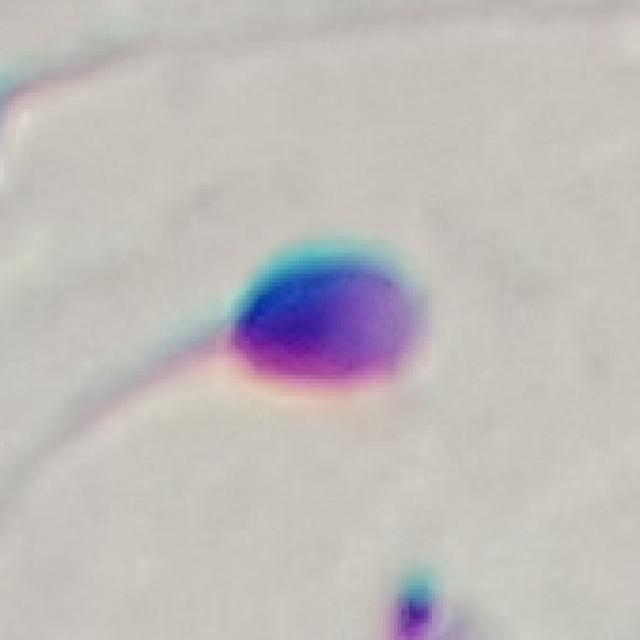normal sperm: (72, 245, 441, 433)
